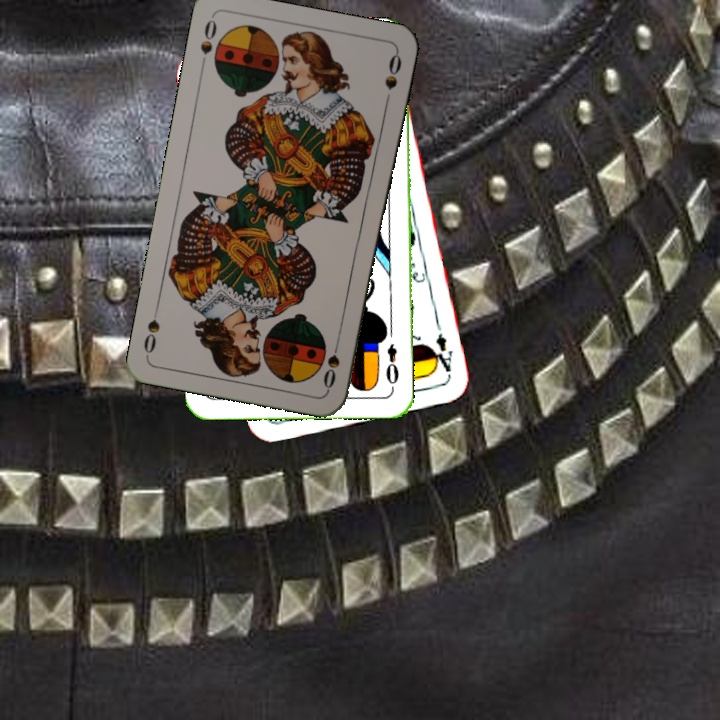EA: (427, 329, 455, 380)
EO: (382, 340, 402, 392)
SO: (319, 333, 343, 392), (196, 16, 220, 73)
